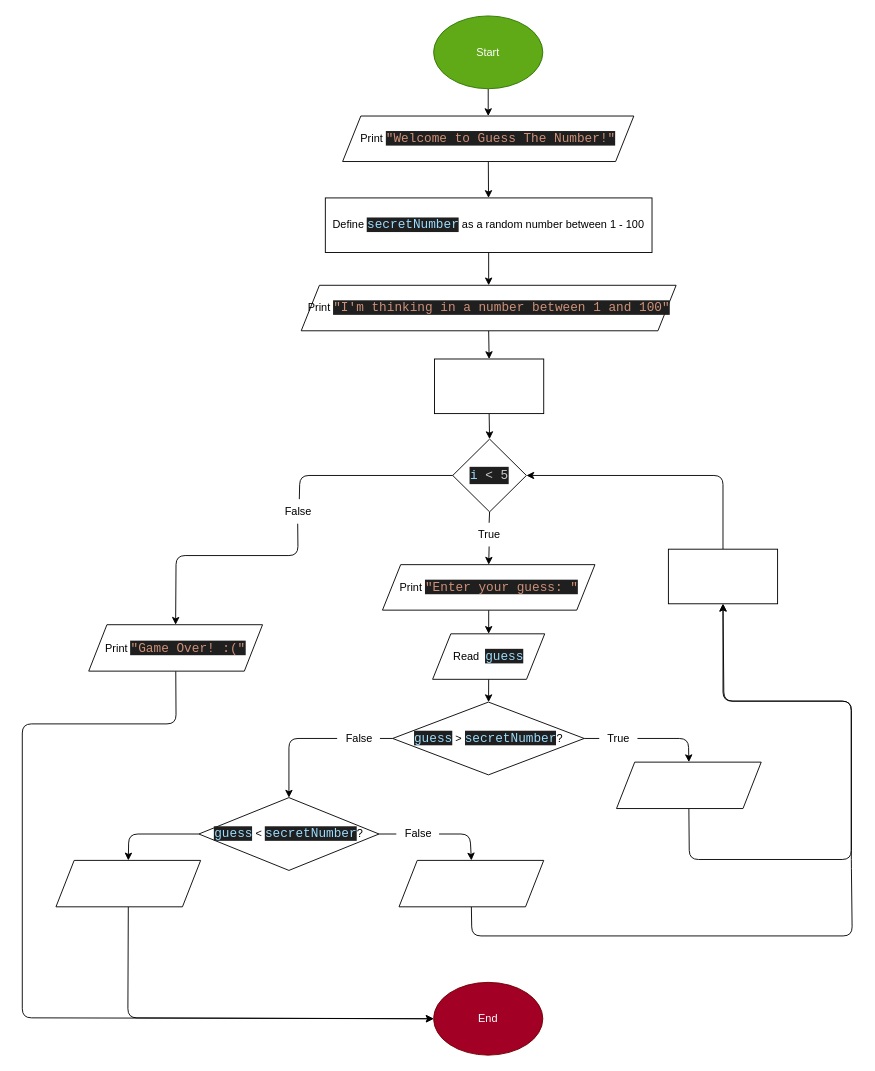
Some shapes in this 875 by 1071 pixel diagram are drawn without their labels. The shapes that lost their labels are listed below. From the top down, each one's centre as x and y in pixels, then its label:
point 489,386: Define i as 0
point 722,576: i = i + 1
point 688,785: Print "Too high!"
point 128,883: Print "You won! :)"
point 471,883: Print "Too low!"
